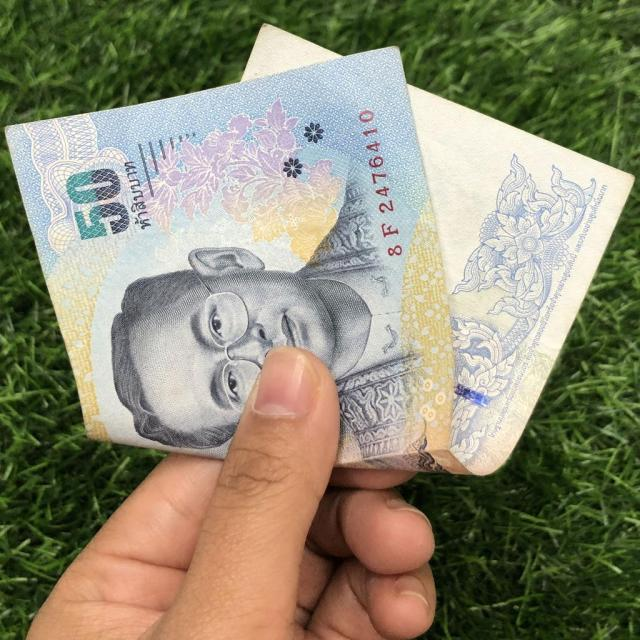THAI50: (6, 28, 633, 475)
